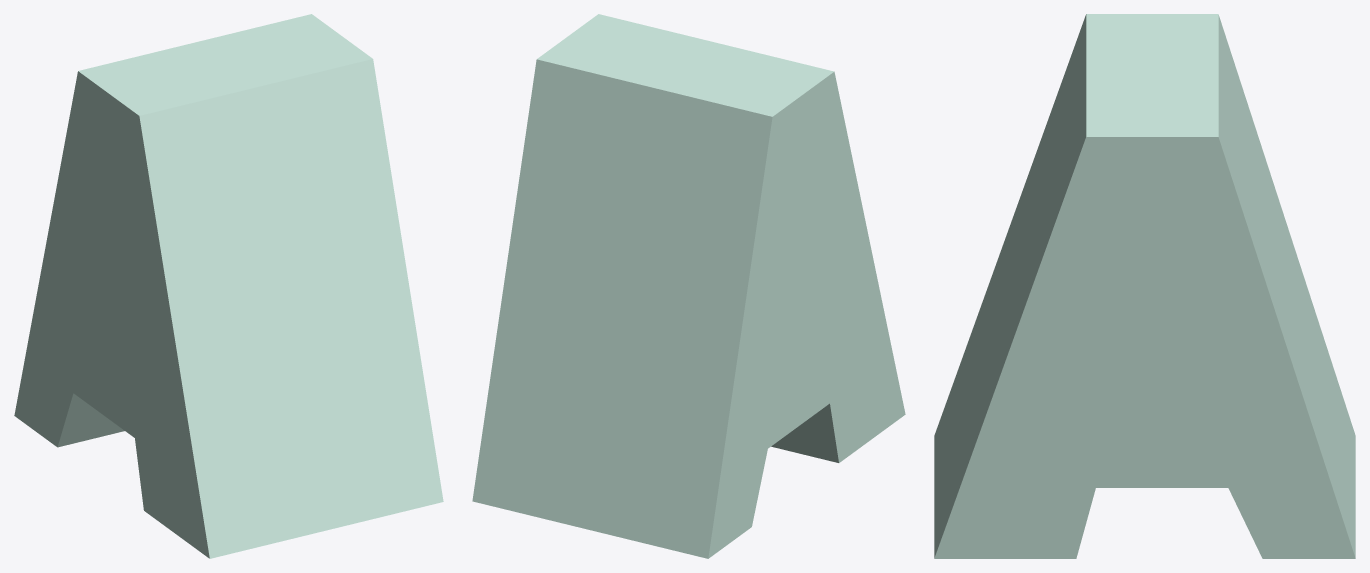
The picture shows the model from 3 angles, left to right: view 1: azimuth 30°, elevation 25°; view 2: azimuth 150°, elevation 25°; view 3: azimuth 270°, elevation 25°; orthographic projection. The views are drawn at different scales.
Visible parts, largest first — view 1: Renderer Node; view 2: Renderer Node; view 3: Renderer Node.
Boxes of the visible parts, x1,y1,x2,y2 form: Renderer Node: (14,14,443,558); Renderer Node: (472,14,905,558); Renderer Node: (934,14,1355,558).
Bounding box in the file's own units: 0.4688 × 0.75 × 0.6789.
